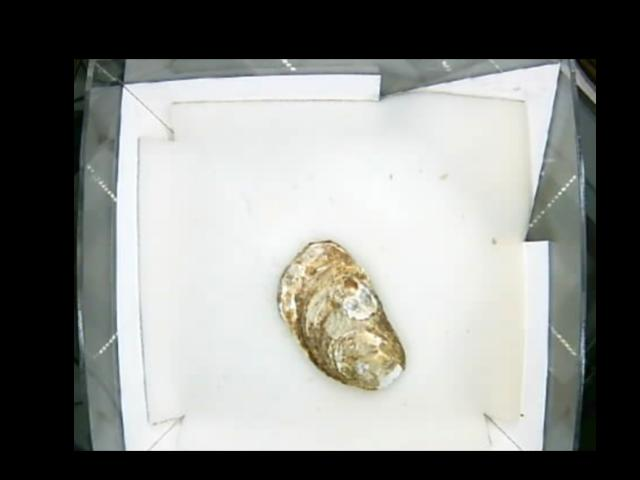Shell: (279, 238, 408, 387)
